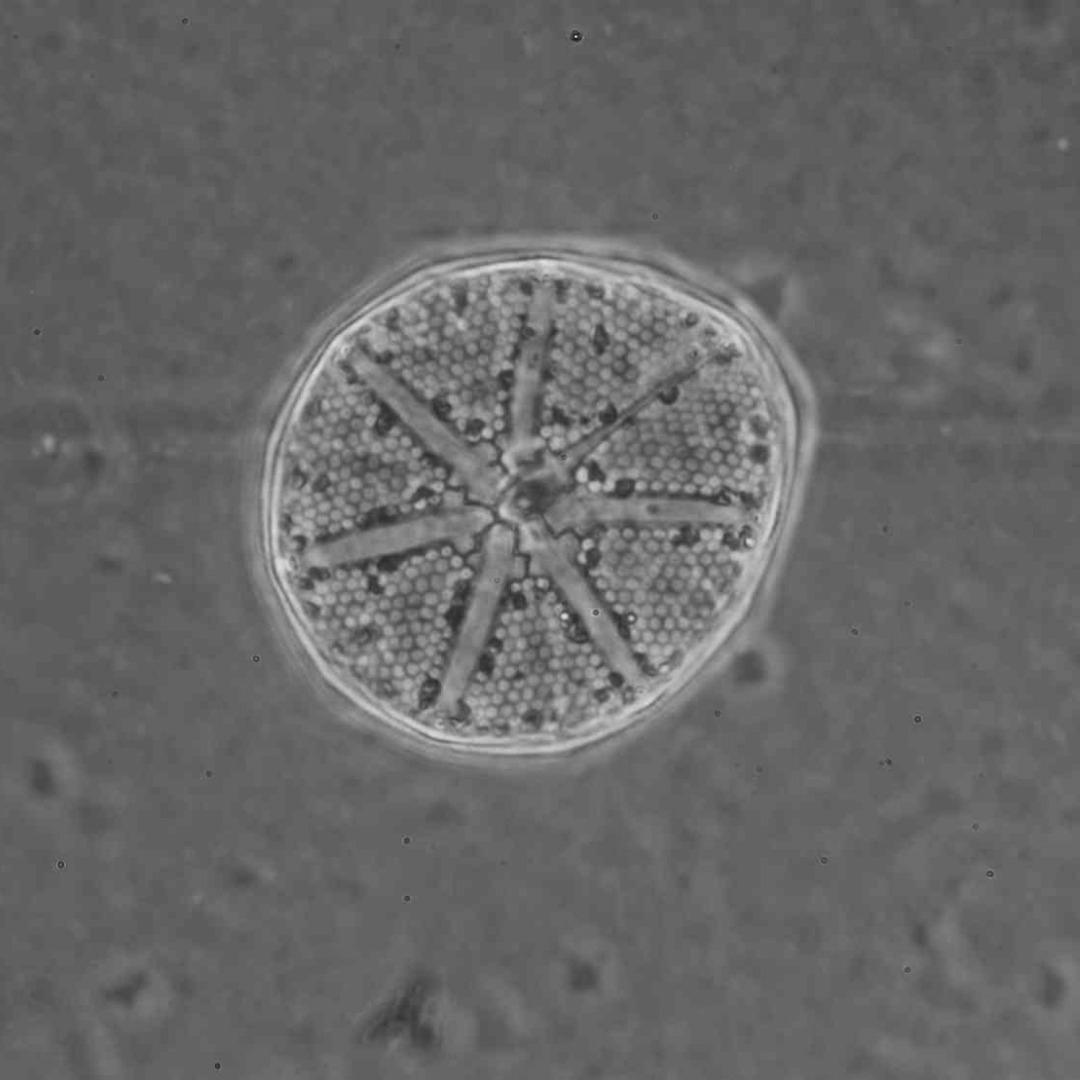asteromphalus_hyalinus: (269, 256, 788, 746)
